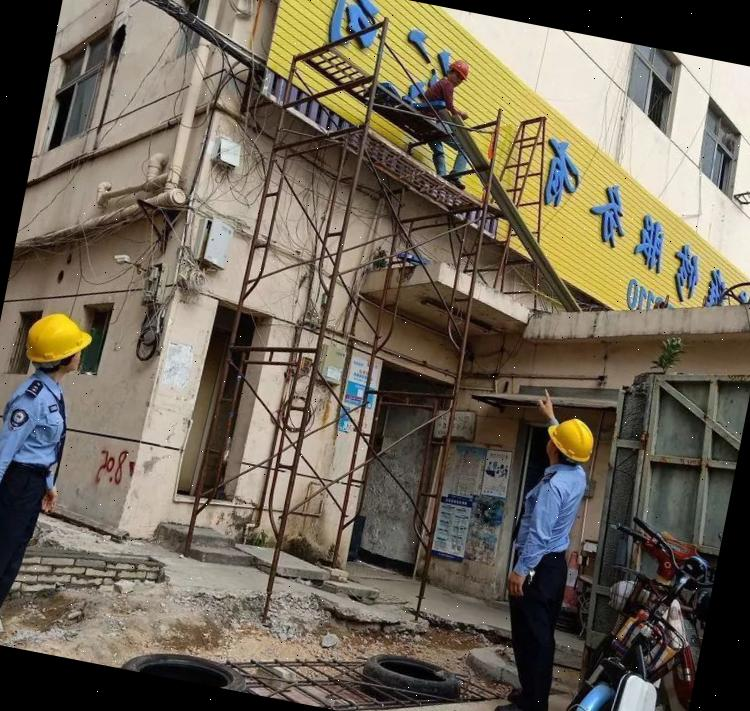helmet: (17, 308, 102, 370), (543, 411, 603, 465)
wear: (511, 454, 592, 576), (0, 375, 72, 473)
